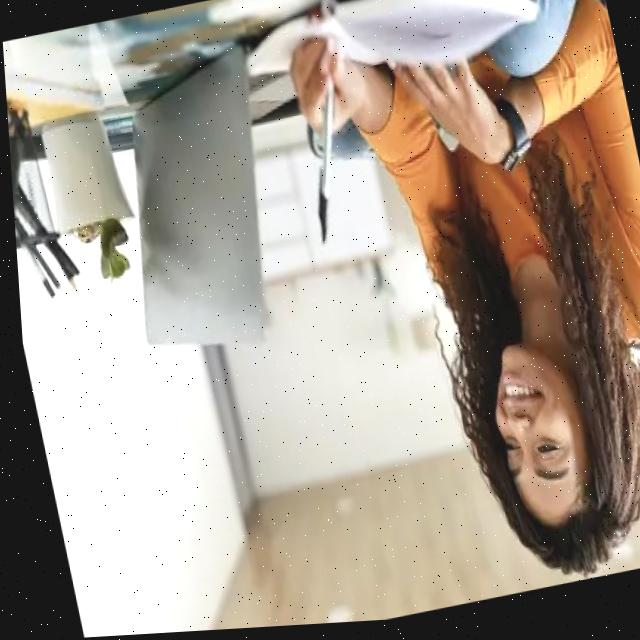studying-person: (232, 0, 640, 629)
